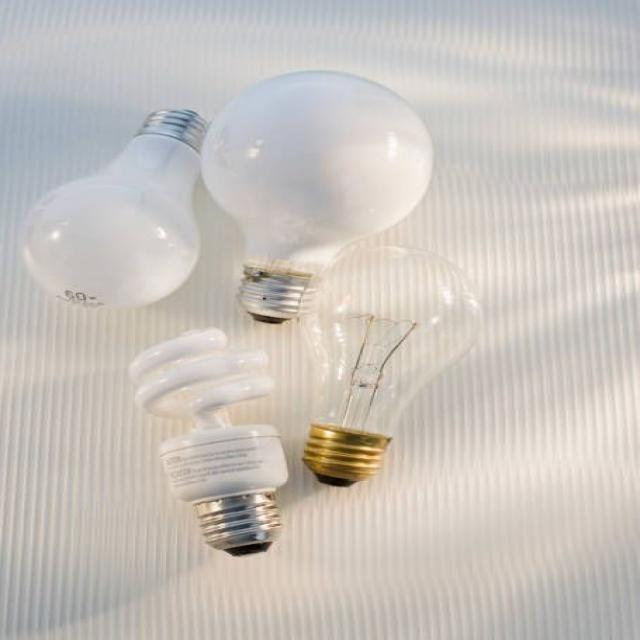electronic: (197, 68, 435, 322), (298, 243, 483, 487), (18, 106, 207, 310), (126, 326, 290, 556)
